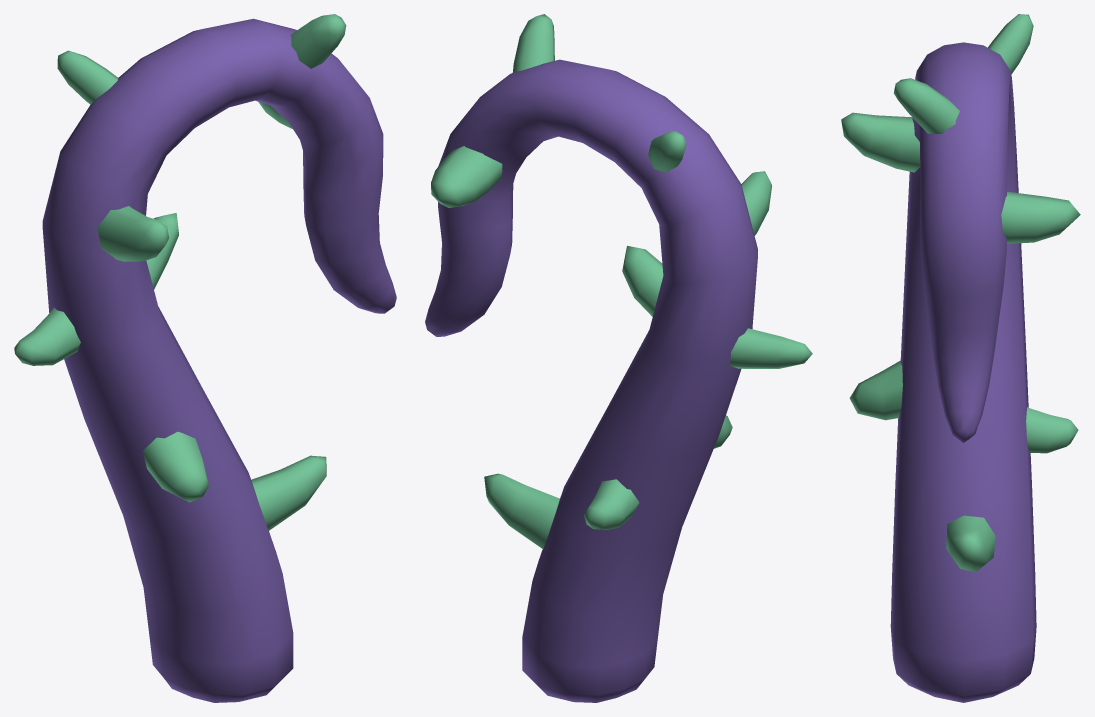
File: Vine_A_01.glb
3 renders of one model, left to right at view 1: azimuth 30°, elevation 25°; view 2: azimuth 150°, elevation 25°; view 3: azimuth 270°, elevation 25°, orthographic. The views are drawn at different scales.
Visible parts, largest first — view 1: Vine_A_01_LOD0; view 2: Vine_A_01_LOD0; view 3: Vine_A_01_LOD0.
Part boxes in pixels (x1=…): Vine_A_01_LOD0: x1=14, y1=14, x2=396, y2=702; Vine_A_01_LOD0: x1=425, y1=14, x2=812, y2=702; Vine_A_01_LOD0: x1=841, y1=14, x2=1080, y2=702.
Size of the model in its own units: 3.53 by 5.73 by 1.94.
1 material, 1 textured.
